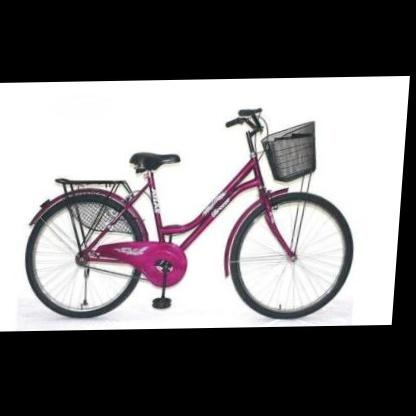Bicycle: (11, 95, 364, 321)
